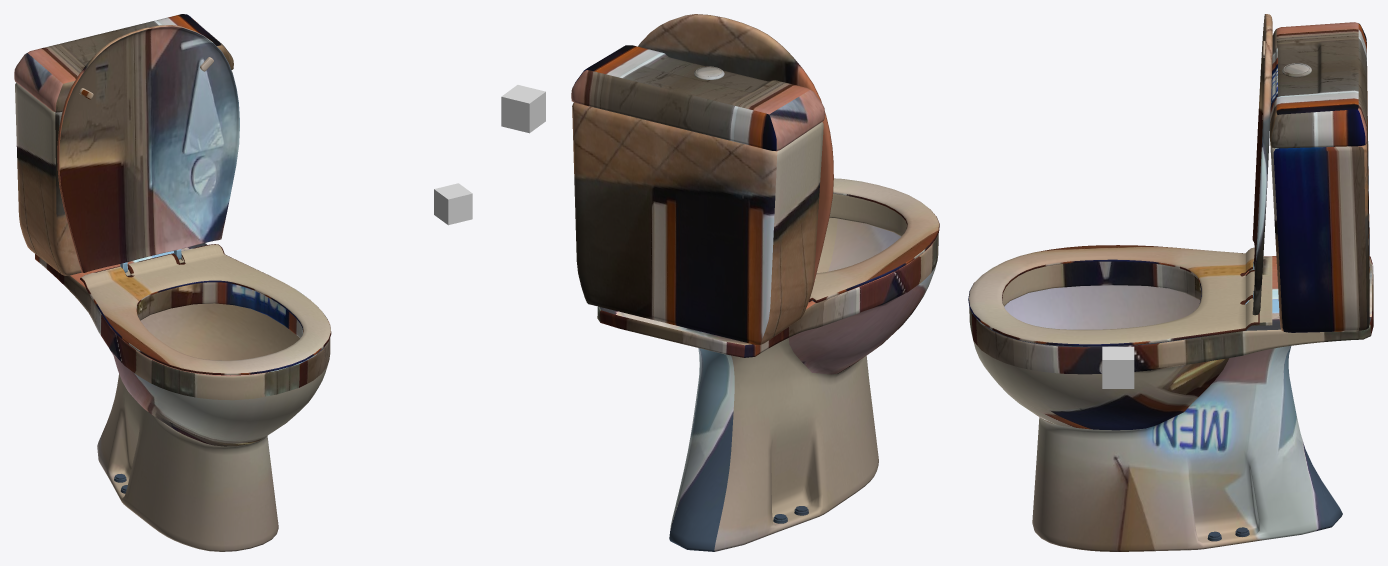
The model's file is toilet.fbx.
The picture shows the model from 3 angles, left to right: view 1: azimuth 30°, elevation 25°; view 2: azimuth 150°, elevation 25°; view 3: azimuth 270°, elevation 25°; orthographic projection. The views are drawn at different scales.
Parts seen in each view (by area): view 1: 10778_Toilet_V2, Cube; view 2: 10778_Toilet_V2, Cube; view 3: 10778_Toilet_V2, Cube.
Part boxes in pixels (box(x1,y1,x2,y2)): 10778_Toilet_V2: box(14, 14, 331, 551); Cube: box(434, 183, 472, 225); 10778_Toilet_V2: box(571, 14, 939, 551); Cube: box(501, 85, 545, 133); 10778_Toilet_V2: box(968, 14, 1373, 551); Cube: box(1102, 346, 1134, 388).
Size of the model in its own units: 2797 by 3454 by 2543.
